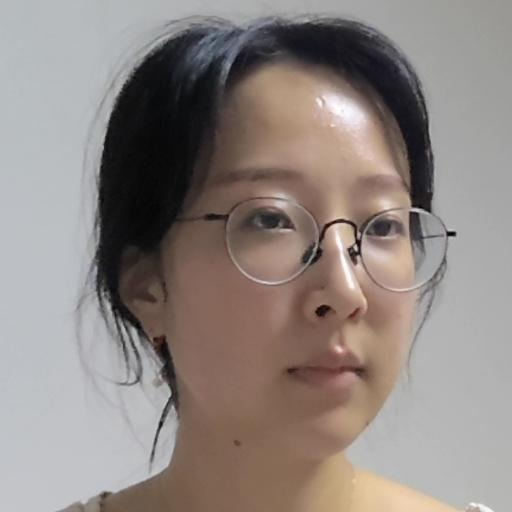no_glasses: (75, 0, 464, 487)
